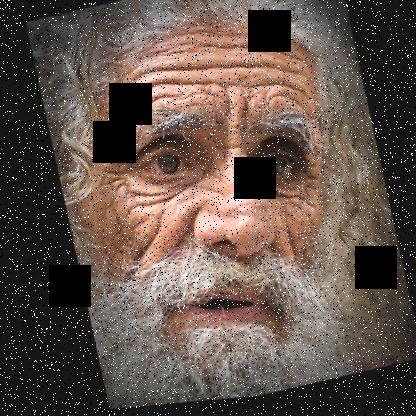Male: (41, 0, 370, 413)
